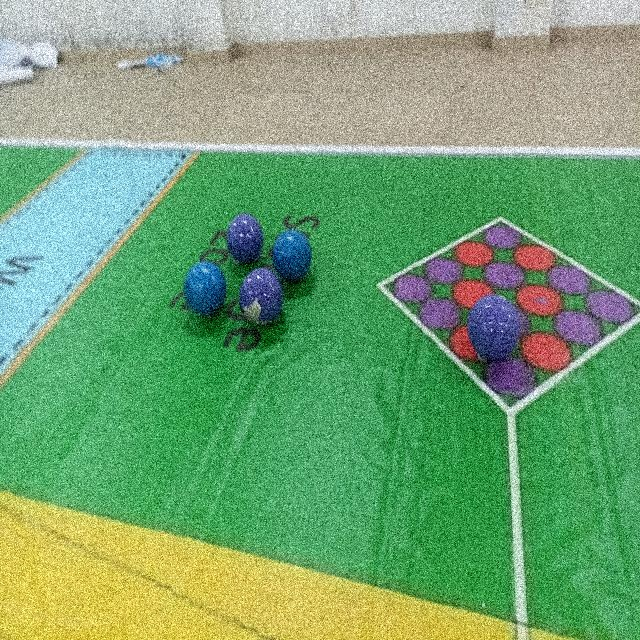blue_ball: (183, 260, 228, 317), (272, 228, 313, 282)
purple_ball: (466, 290, 521, 365), (239, 266, 285, 329), (226, 212, 263, 262)
